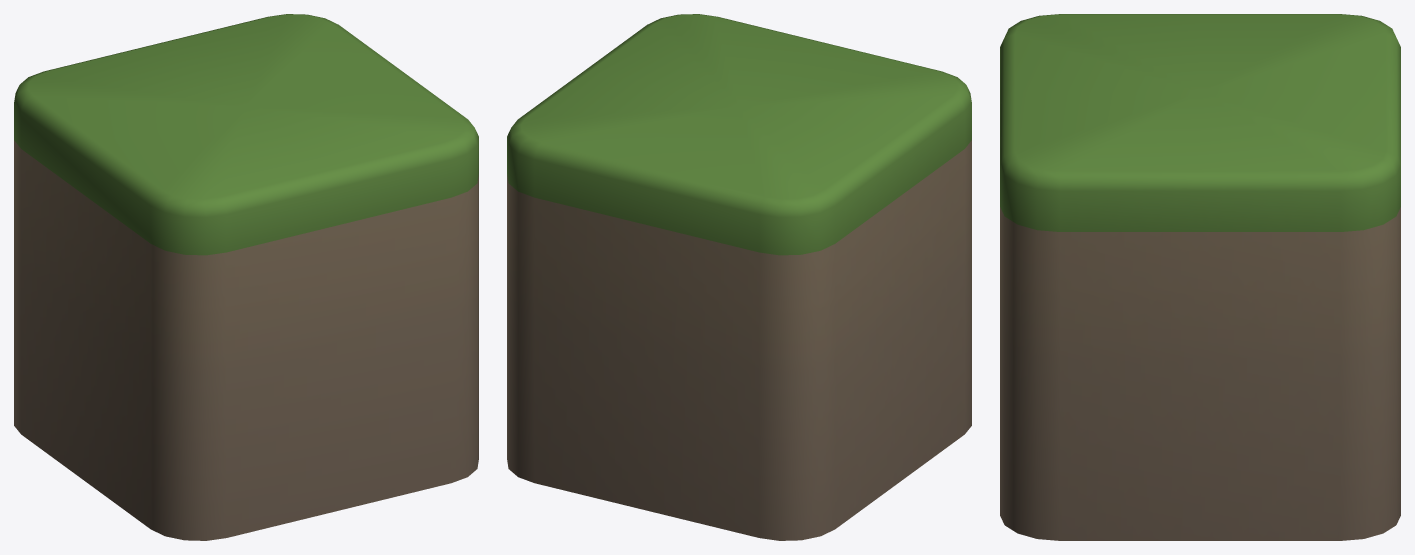
3 views of the same model, side by side, from view 1: azimuth 30°, elevation 25°; view 2: azimuth 150°, elevation 25°; view 3: azimuth 270°, elevation 25° (orthographic). The views are drawn at different scales.
Parts seen in each view (by area): view 1: grassCube_bevelAll; view 2: grassCube_bevelAll; view 3: grassCube_bevelAll.
Part boxes in pixels (x1=…): grassCube_bevelAll: x1=14, y1=14, x2=478, y2=540; grassCube_bevelAll: x1=507, y1=14, x2=971, y2=540; grassCube_bevelAll: x1=1000, y1=14, x2=1400, y2=540.
Size of the model in its own units: 200 by 200 by 200.
